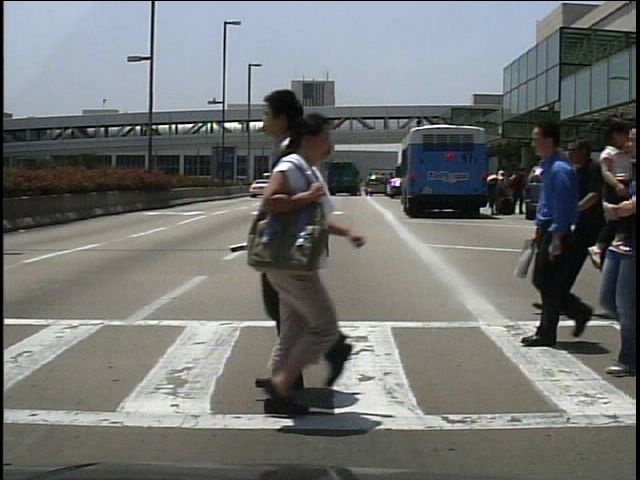person: (223, 85, 381, 407), (218, 114, 353, 421), (245, 118, 372, 349), (505, 114, 614, 348), (549, 130, 621, 322), (582, 168, 602, 218), (486, 161, 504, 214), (508, 166, 526, 216)
